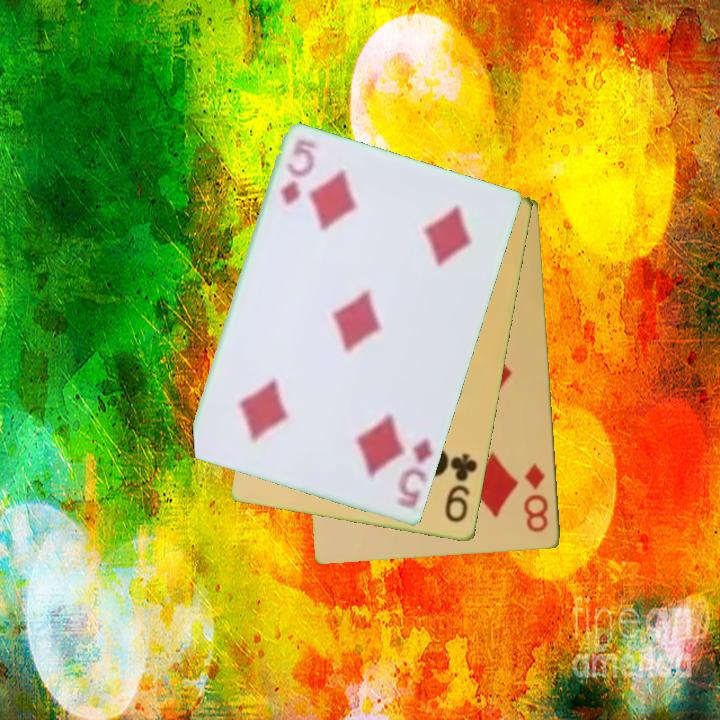5d: (392, 434, 436, 513), (277, 149, 313, 209)
8d: (520, 460, 552, 535)
9c: (441, 450, 481, 526)
